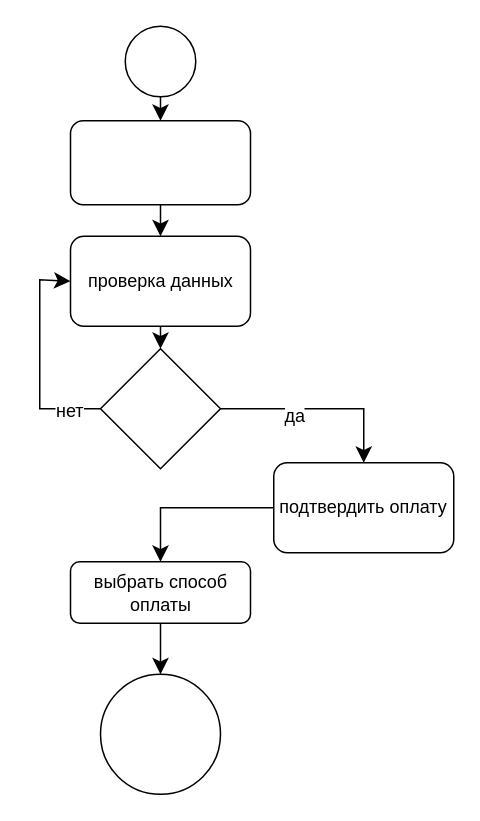
Some shapes in this 480 by 821 pixel diagram are drawn without their labels. Each missing label, with the centre of its shape:
"получить сумму от биллингового центра" belongs at point (159, 162).
"сумма коректна?" belongs at point (159, 408).
